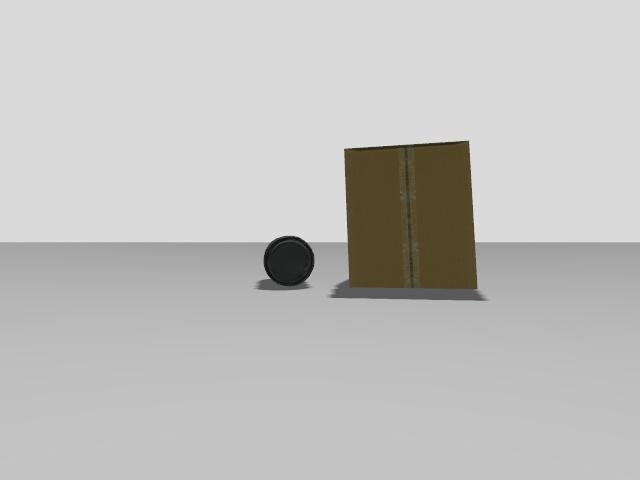canette: (264, 236, 314, 286)
carton: (345, 141, 476, 288)
